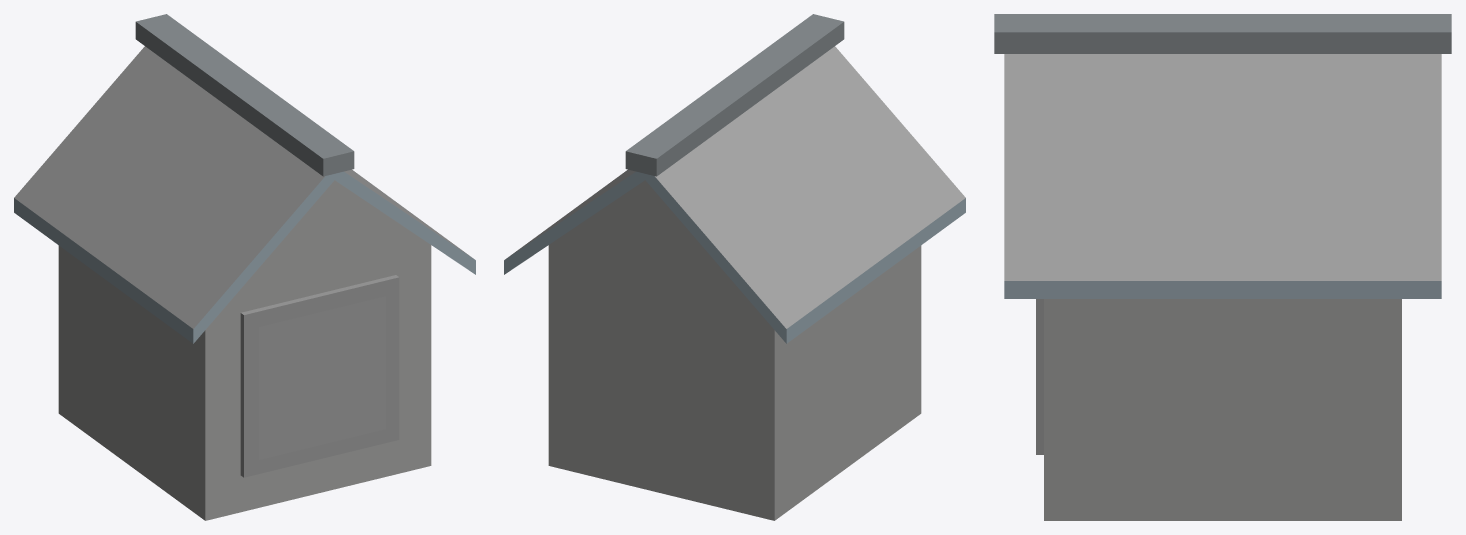
File: dormer.glb
3 renders of one model, left to right at view 1: azimuth 30°, elevation 25°; view 2: azimuth 150°, elevation 25°; view 3: azimuth 270°, elevation 25°, orthographic. The views are drawn at different scales.
Parts seen in each view (by area): view 1: dormer; view 2: dormer; view 3: dormer.
Boxes of the visible parts, bbox=[...] form: dormer: bbox=[14, 14, 475, 520]; dormer: bbox=[504, 14, 965, 520]; dormer: bbox=[994, 14, 1451, 520].
Size of the model in its own units: 2 by 2.39 by 2.3.
